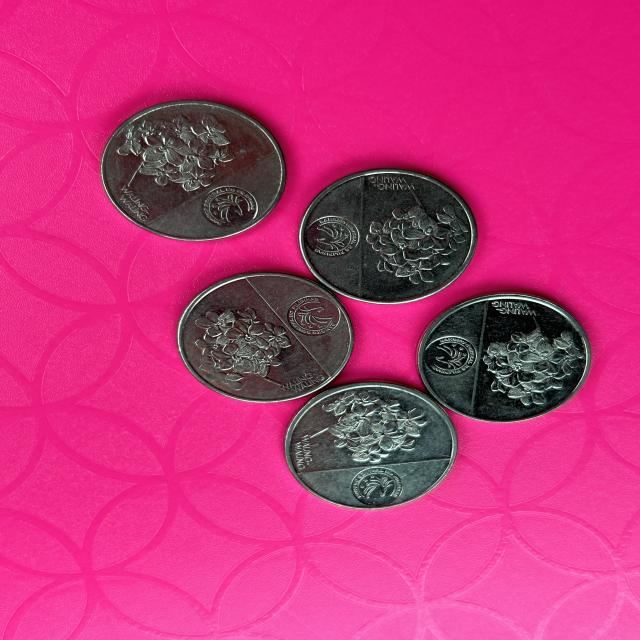1_New_Back: (363, 194, 473, 279), (119, 112, 248, 184), (311, 391, 426, 462), (194, 299, 286, 382), (479, 319, 566, 404)
